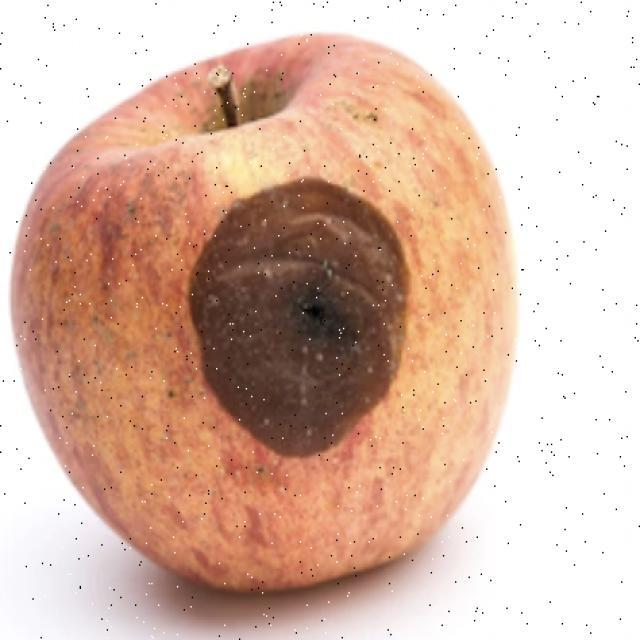Rotten: (43, 47, 507, 580)
